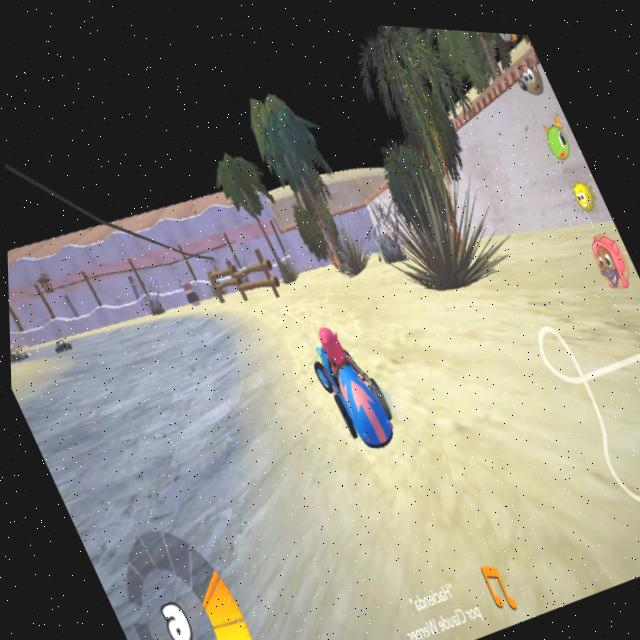enemy_kart: (8, 336, 37, 371), (49, 338, 68, 357)
off_track: (25, 83, 483, 367)
player_kart: (292, 297, 402, 457)
track: (16, 306, 288, 560)
